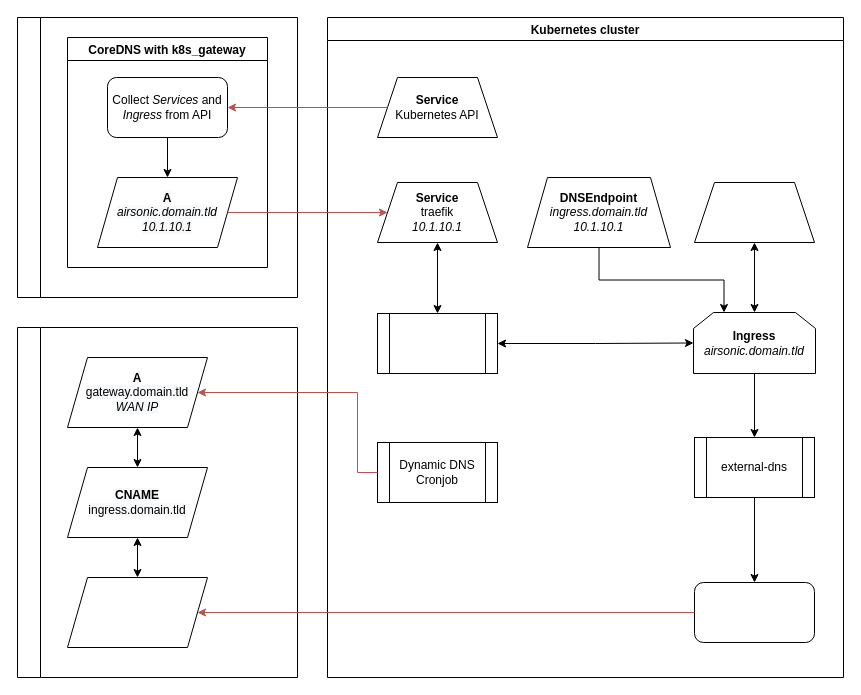
The diagram is 861 pixels wide and 695 high, and some of its shapes have lost their labels. Here are the shapes that lost their labels. From the top down, the box of each, then its label:
(16, 16, 298, 298): VyOS router
(694, 182, 814, 242): Service airsonic
(376, 312, 498, 374): Traefik
(16, 326, 298, 678): Cloudflare
(66, 576, 208, 648): CNAME airsonic.domain.tld
(694, 582, 814, 642): Annotation filter: external-dns/is-public: "true"
